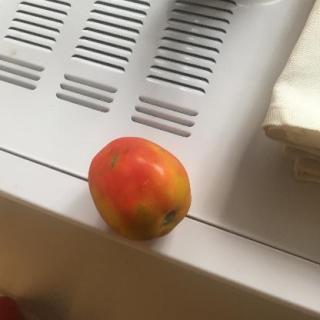Tomat: (77, 134, 202, 245)
